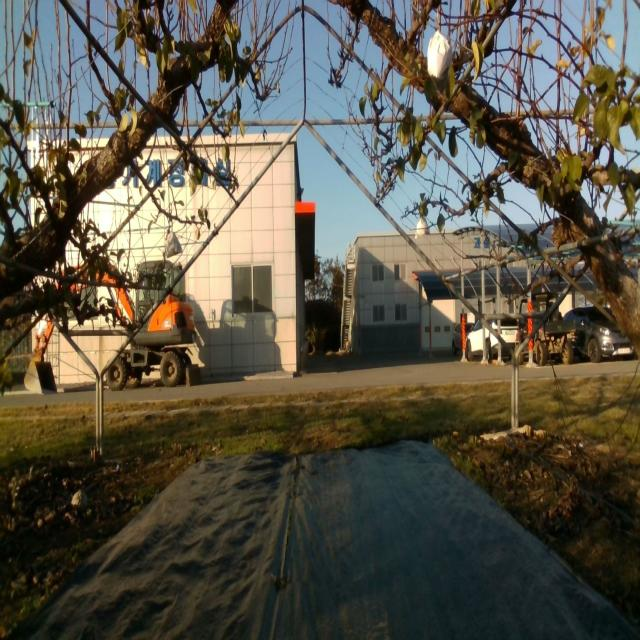pearbags: (427, 28, 455, 91), (165, 231, 182, 258), (415, 218, 429, 241)
